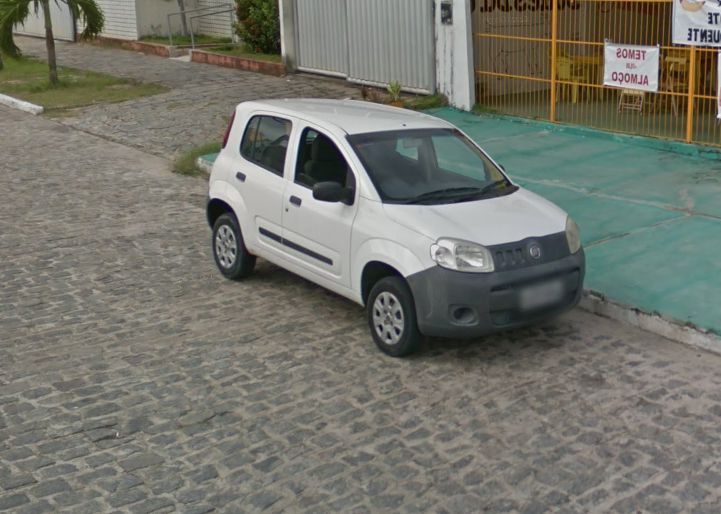car: (204, 95, 589, 359)
